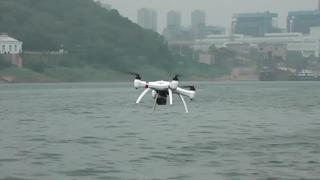UAV: (134, 74, 196, 114)
